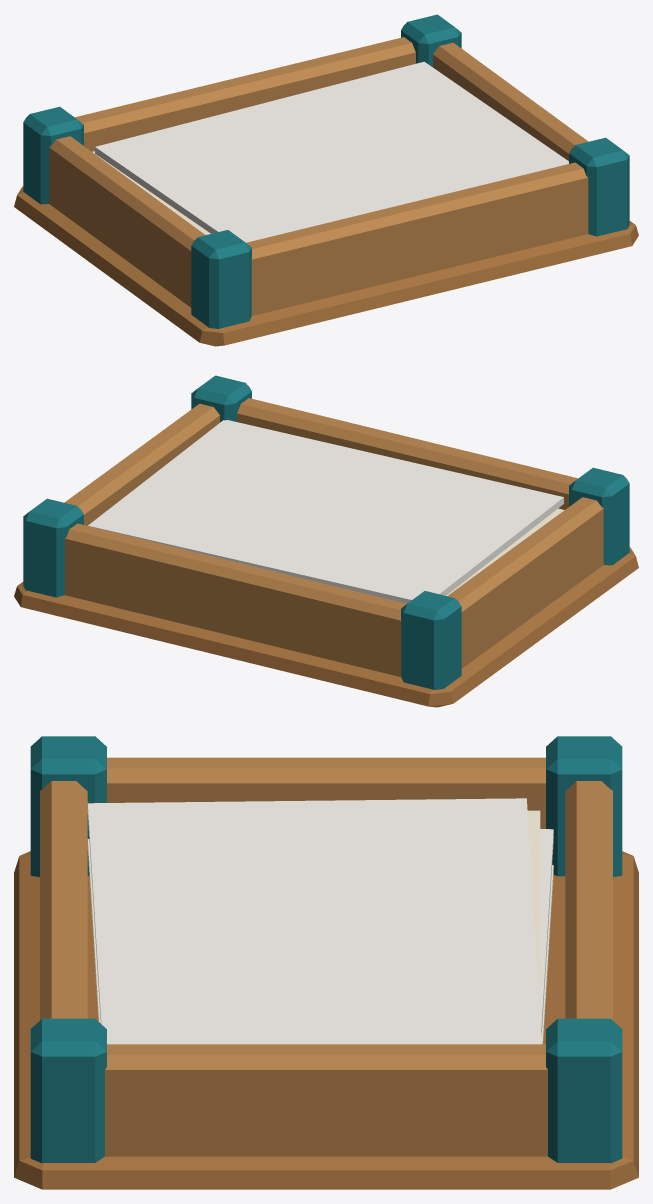
Rendered from paper_tray.glb.
3 views of the same model, one above another, from view 1: azimuth 30°, elevation 25°; view 2: azimuth 150°, elevation 25°; view 3: azimuth 270°, elevation 25° (orthographic). The views are drawn at different scales.
Visible parts, largest first — view 1: paper_tray; view 2: paper_tray; view 3: paper_tray.
Boxes of the visible parts, left/top/right/bottom form: paper_tray: left=14, top=14, right=638, bottom=346; paper_tray: left=14, top=375, right=638, bottom=707; paper_tray: left=14, top=736, right=638, bottom=1189.
Size of the model in its own units: 0.4073 by 0.0857 by 0.3273.
